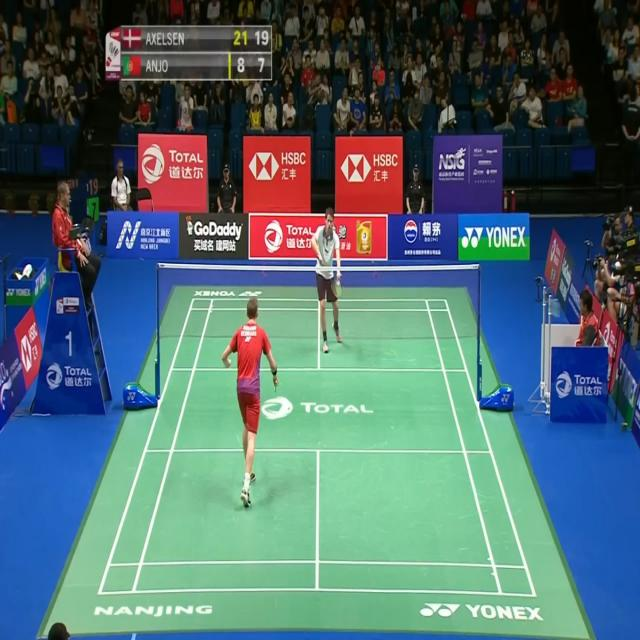Player1: (218, 287, 285, 517)
Player2: (307, 202, 348, 357)
